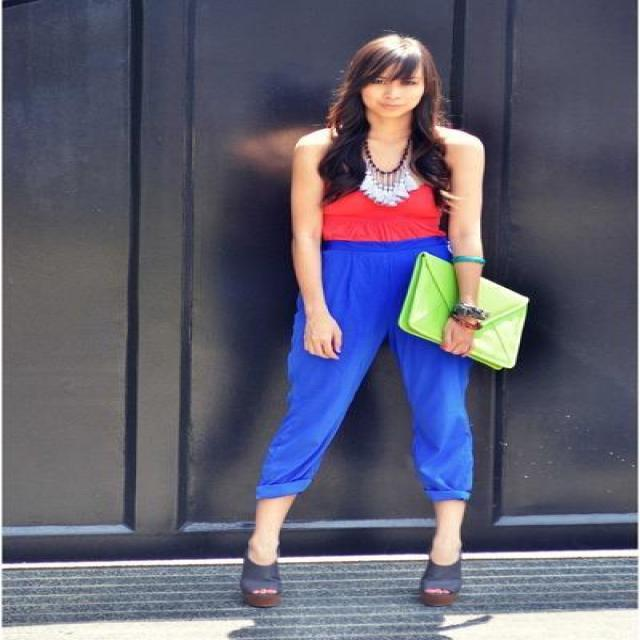bag: (398, 252, 528, 367)
pants: (256, 235, 472, 500)
shirt: (326, 166, 440, 240)
shoe: (228, 550, 498, 614)
